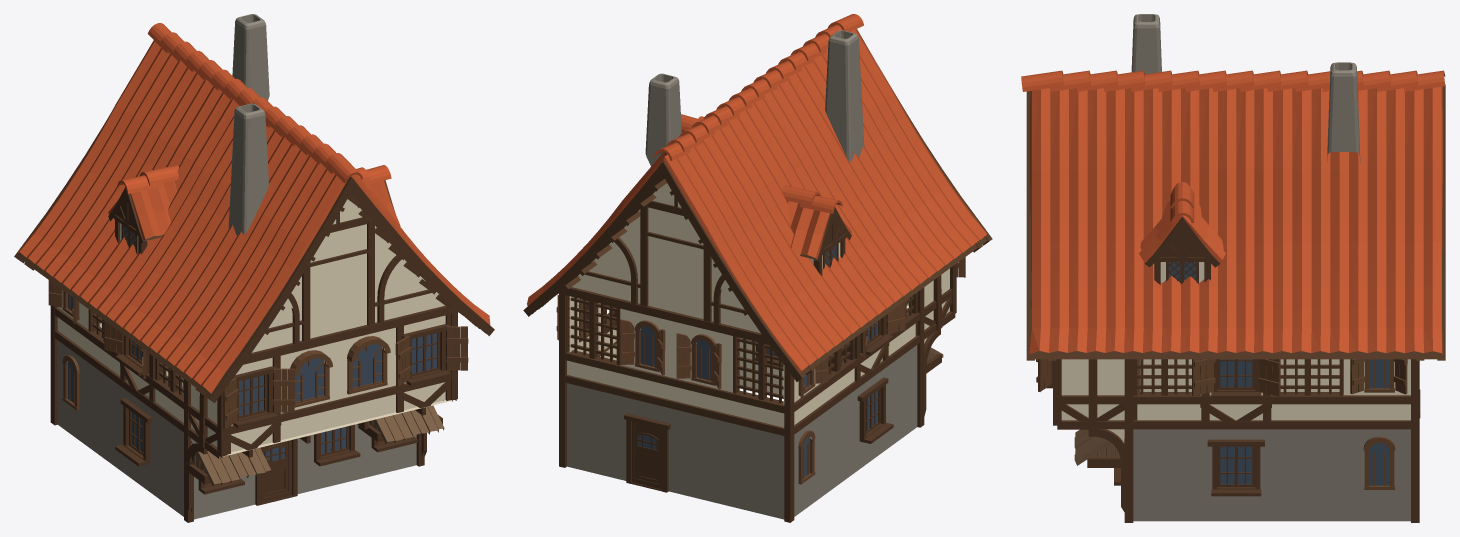
The model's file is tavern.obj.
The picture shows the model from 3 angles, left to right: view 1: azimuth 30°, elevation 25°; view 2: azimuth 150°, elevation 25°; view 3: azimuth 270°, elevation 25°; orthographic projection. The views are drawn at different scales.
Bounding box in the file's own units: 9.95 × 12.91 × 11.86.
